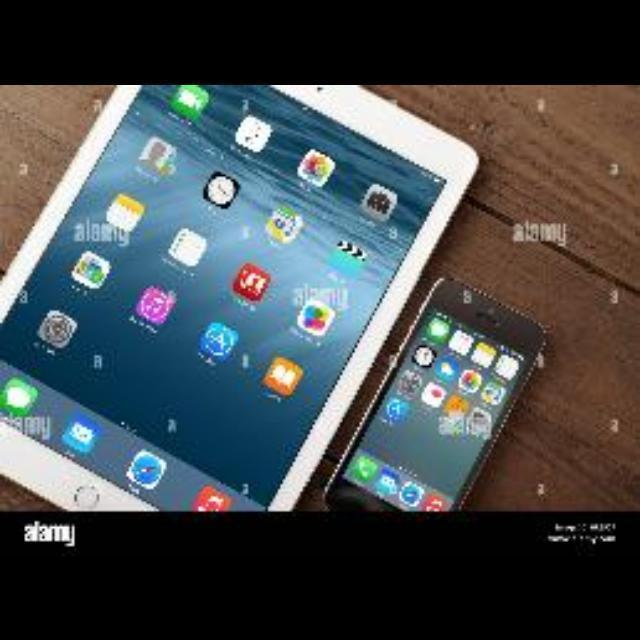phone: (315, 276, 573, 512)
